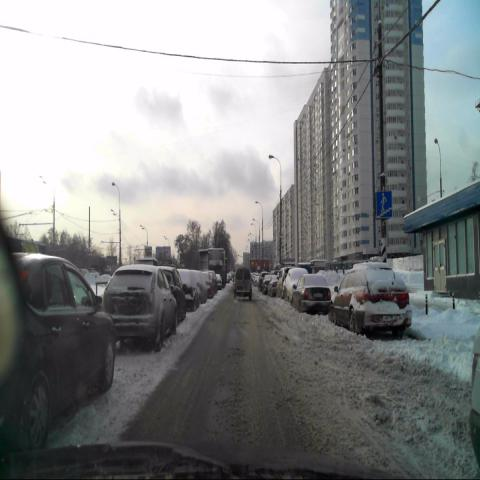6_6: (376, 191, 392, 218)
